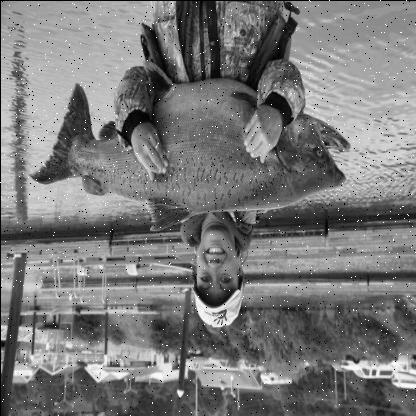fish: (27, 60, 350, 226)
